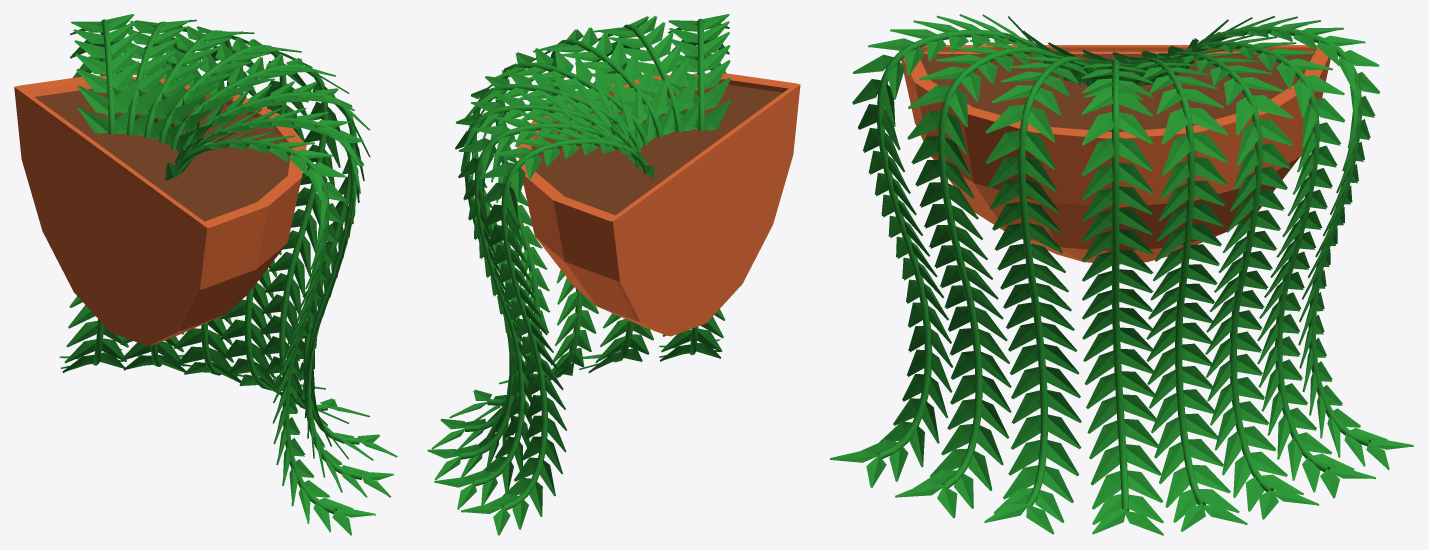
Rendered from Rhipsalis.glb.
3 views of the same model, side by side, from view 1: azimuth 30°, elevation 25°; view 2: azimuth 150°, elevation 25°; view 3: azimuth 270°, elevation 25° (orthographic). The views are drawn at different scales.
Parts seen in each view (by area): view 1: rhipalisPot, BézierCurve.012, BézierCurve.019, BézierCurve.016, BézierCurve.013, BézierCurve.014, BézierCurve.018, BézierCurve.017, BézierCurve.015; view 2: rhipalisPot, BézierCurve.016, BézierCurve.015, BézierCurve.017, BézierCurve.012, BézierCurve.018, BézierCurve.019, BézierCurve.014, BézierCurve.013; view 3: rhipalisPot, BézierCurve.017, BézierCurve.012, BézierCurve.013, BézierCurve.018, BézierCurve.014, BézierCurve.019, BézierCurve.015, BézierCurve.016.
Boxes of the visible parts, <box> form: rhipalisPot: <box>14,75,306,346</box>; BézierCurve.012: <box>169,54,370,425</box>; BézierCurve.019: <box>165,131,375,535</box>; BézierCurve.016: <box>59,14,141,372</box>; BézierCurve.013: <box>153,37,325,395</box>; BézierCurve.014: <box>131,26,256,382</box>; BézierCurve.018: <box>185,107,393,497</box>; BézierCurve.017: <box>180,81,397,460</box>; BézierCurve.015: <box>103,19,200,372</box>; rhipalisPot: <box>517,73,800,336</box>; BézierCurve.016: <box>461,125,654,535</box>; BézierCurve.015: <box>434,109,641,509</box>; BézierCurve.017: <box>499,27,675,384</box>; BézierCurve.012: <box>449,48,653,420</box>; BézierCurve.018: <box>579,15,702,373</box>; BézierCurve.019: <box>659,14,730,361</box>; BézierCurve.014: <box>427,90,637,480</box>; BézierCurve.013: <box>431,69,643,449</box>; rhipalisPot: <box>899,45,1330,264</box>; BézierCurve.017: <box>984,42,1111,534</box>; BézierCurve.012: <box>1081,50,1163,535</box>; BézierCurve.013: <box>1108,51,1247,531</box>; BézierCurve.018: <box>895,31,1086,518</box>; BézierCurve.014: <box>1135,43,1319,519</box>; BézierCurve.019: <box>830,14,1057,487</box>; BézierCurve.015: <box>1168,32,1375,498</box>; BézierCurve.016: <box>1187,16,1413,470</box>.
Bounding box in the file's own units: 1.5 × 2.12 × 2.69.
